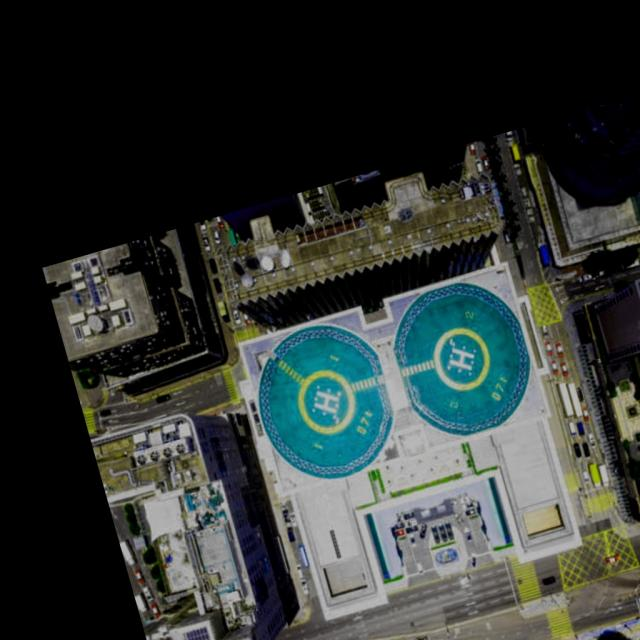helipad: (296, 367, 356, 435), (430, 326, 491, 392)
